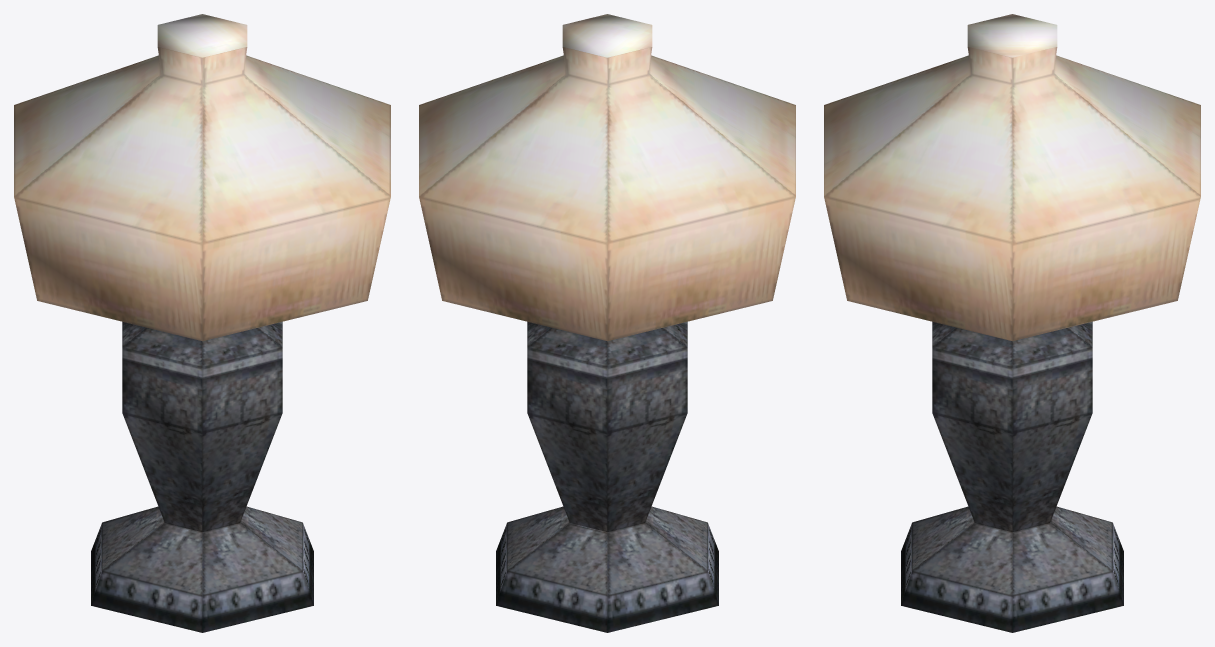
File: INST_LT_TABLE_LAMP.fbx
The picture shows the model from 3 angles, left to right: view 1: azimuth 30°, elevation 25°; view 2: azimuth 150°, elevation 25°; view 3: azimuth 270°, elevation 25°; orthographic projection.
Visible parts, largest first — view 1: INST_LT_TABLE_LAMP; view 2: INST_LT_TABLE_LAMP; view 3: INST_LT_TABLE_LAMP.
Boxes of the visible parts, box(x1,y1,x2,y2) form: INST_LT_TABLE_LAMP: box(14, 14, 390, 632); INST_LT_TABLE_LAMP: box(419, 14, 795, 632); INST_LT_TABLE_LAMP: box(824, 14, 1200, 632).
Bounding box in the file's own units: 4051 × 5573 × 3508.
Materials: 2 (2 with a texture image).
